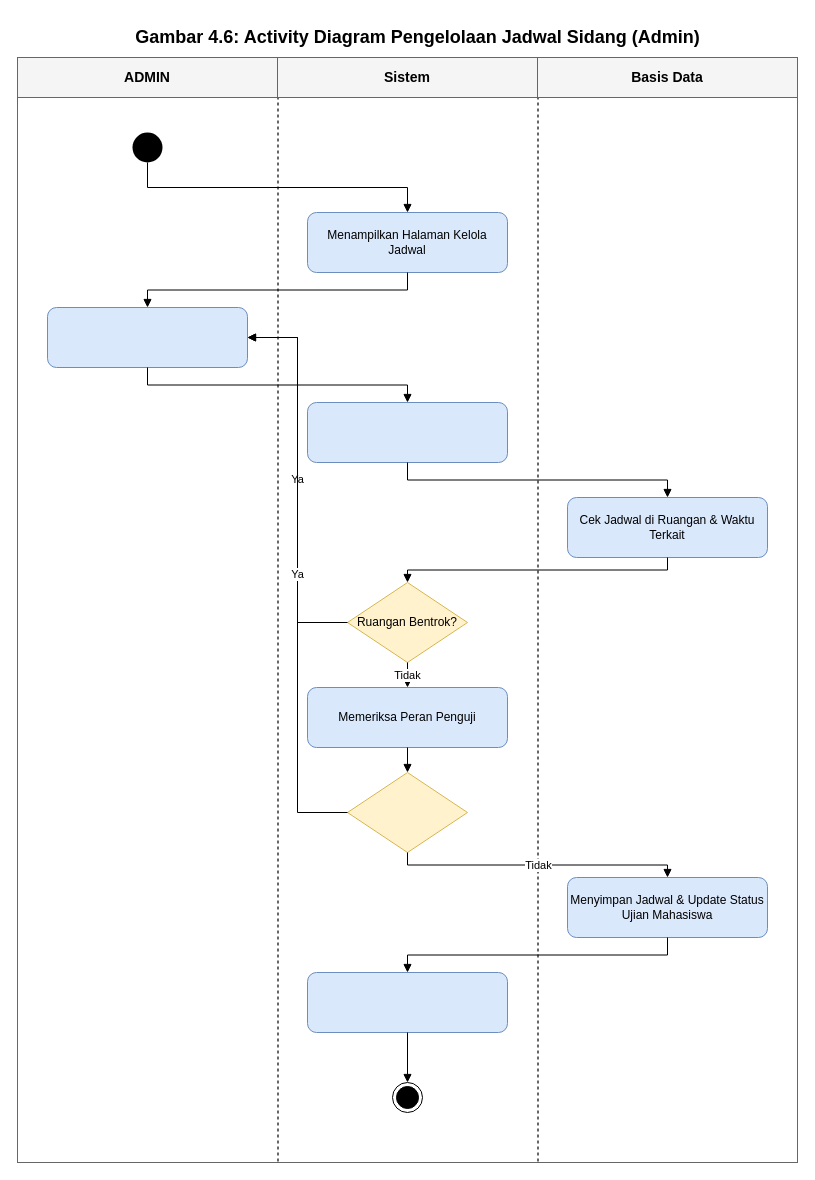
This 815x1180 diagram has some shape labels left out. Here are the shapes that lost their labels. From the top down, the box of each, then its label:
(46, 306, 248, 368): Mengisi Form Jadwal Sidang & Dosen Penguji
(306, 402, 508, 462): Memeriksa Konflik Ruangan & Waktu
(346, 772, 468, 852): Penguji Merangkap Dospem Mahasiswa?
(306, 972, 508, 1032): Menampilkan Jadwal & Kirim Email Pemberitahuan
